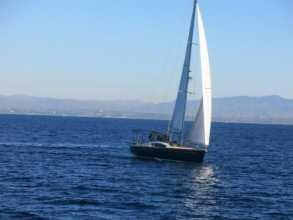fanchuan: (124, 1, 218, 165)
